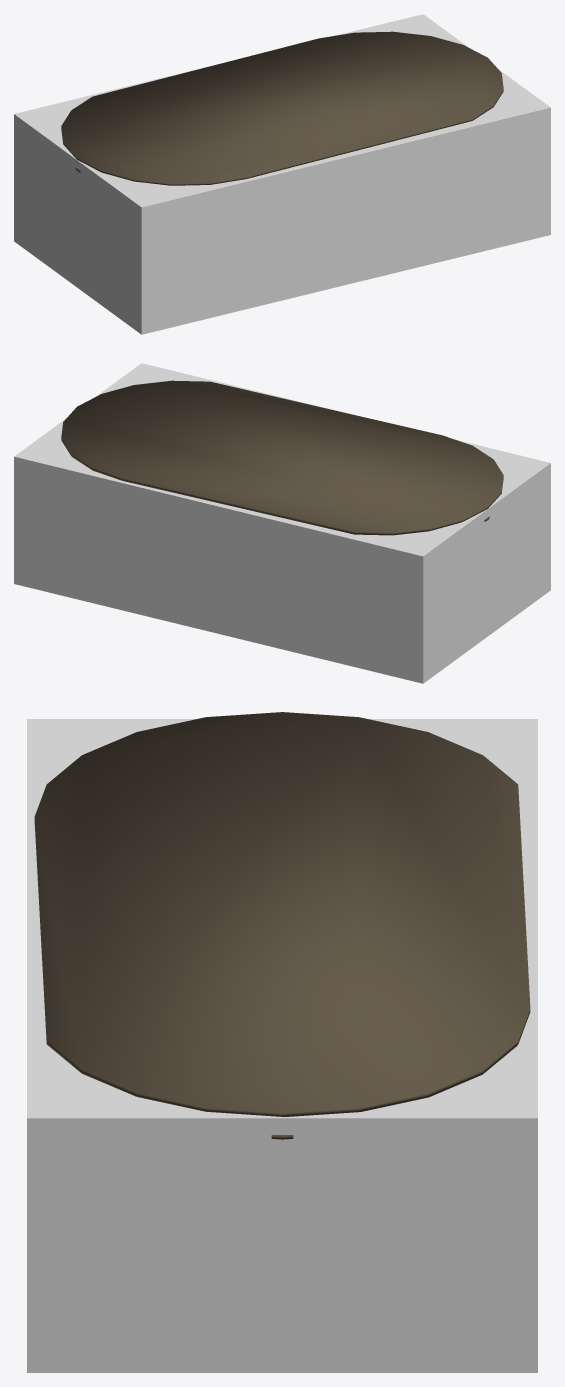
The model's file is Table.gltf.
The picture shows the model from 3 angles, top to bottom: view 1: azimuth 30°, elevation 25°; view 2: azimuth 150°, elevation 25°; view 3: azimuth 270°, elevation 25°; orthographic projection. The views are drawn at different scales.
Visible parts, largest first — view 1: COL01, Table_RoundLarge; view 2: COL01, Table_RoundLarge; view 3: Table_RoundLarge, COL01.
Part boxes in pixels (box(x1,y1,x2,y2)): COL01: box(14, 14, 550, 334); Table_RoundLarge: box(61, 31, 503, 185); COL01: box(14, 363, 550, 683); Table_RoundLarge: box(61, 380, 503, 535); Table_RoundLarge: box(34, 712, 530, 1139); COL01: box(27, 719, 537, 1372).
Bounding box in the file's own units: 3.71 × 1.13 × 2.
